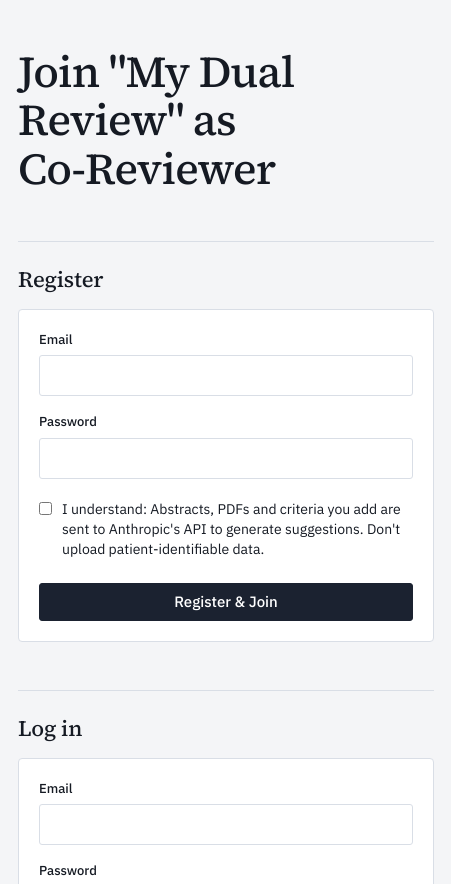
Test case: AcceptInvitationPage › shows an error when login fails
This screenshot has width=451, height=884.
In the 2nd field labelled "Email": (226, 825) [39,804,413,845], type "co-reviewer@example.com"
(page scrolled)
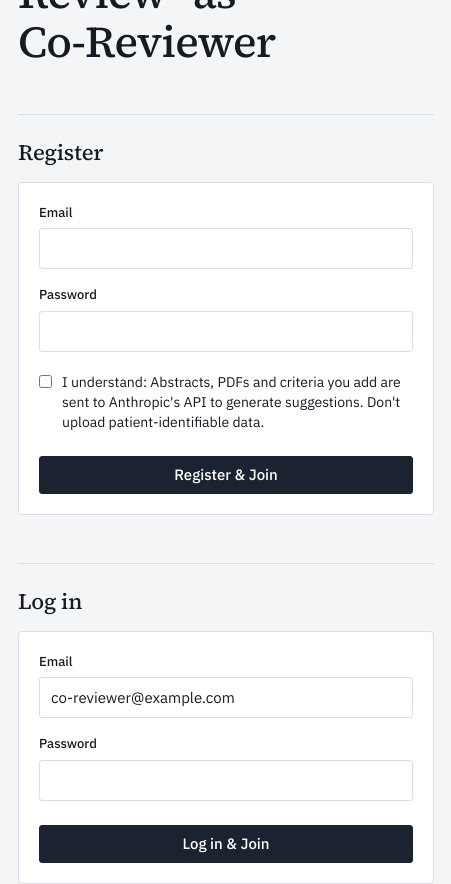
In the 2nd password field labelled "Password": (226, 780) [39,760,413,801], type "wrong"
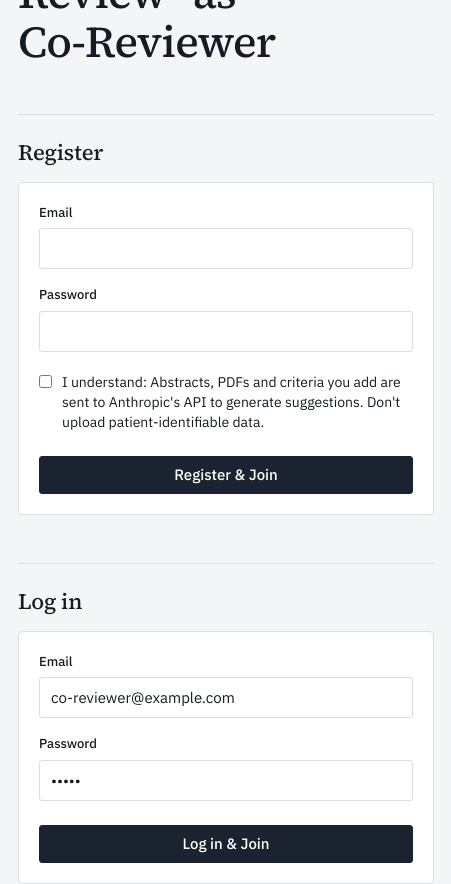
Click the button "Log in & Join": (226, 844) [39,825,413,863]
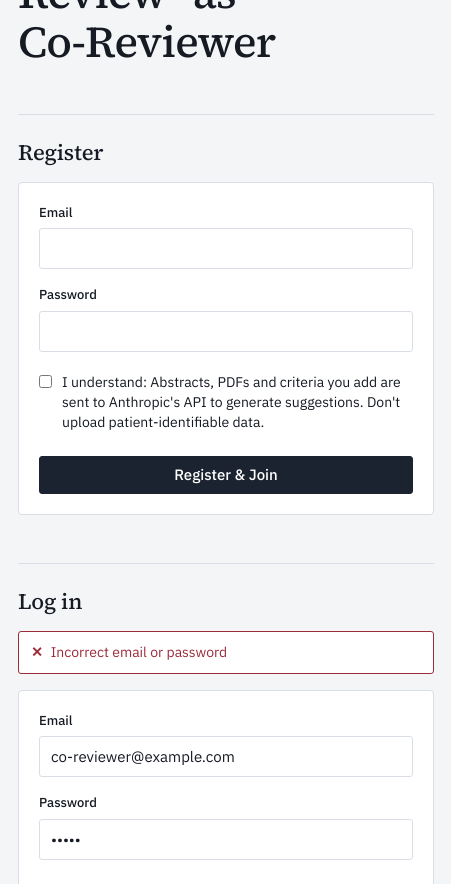
Expected: the text "Incorrect email or password" is shown, [18,631,434,674]
